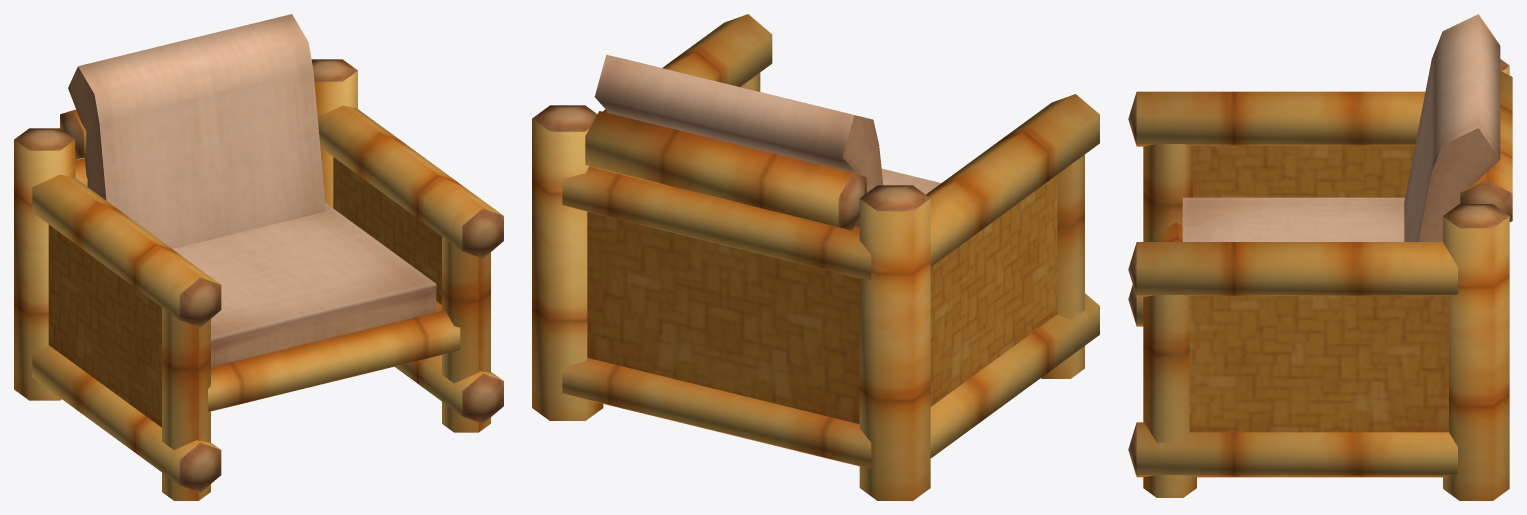
The model's file is Bamboo_ArmChair_01.fbx.
The picture shows the model from 3 angles, left to right: view 1: azimuth 30°, elevation 25°; view 2: azimuth 150°, elevation 25°; view 3: azimuth 270°, elevation 25°; orthographic projection. The views are drawn at different scales.
Parts seen in each view (by area): view 1: Bamboo_ArmChair_01; view 2: Bamboo_ArmChair_01; view 3: Bamboo_ArmChair_01.
Boxes of the visible parts, left/top/right/bottom form: Bamboo_ArmChair_01: left=14, top=14, right=503, bottom=500; Bamboo_ArmChair_01: left=532, top=14, right=1099, bottom=500; Bamboo_ArmChair_01: left=1128, top=14, right=1512, bottom=500.
Size of the model in its own units: 27.57 by 25.18 by 25.61.
